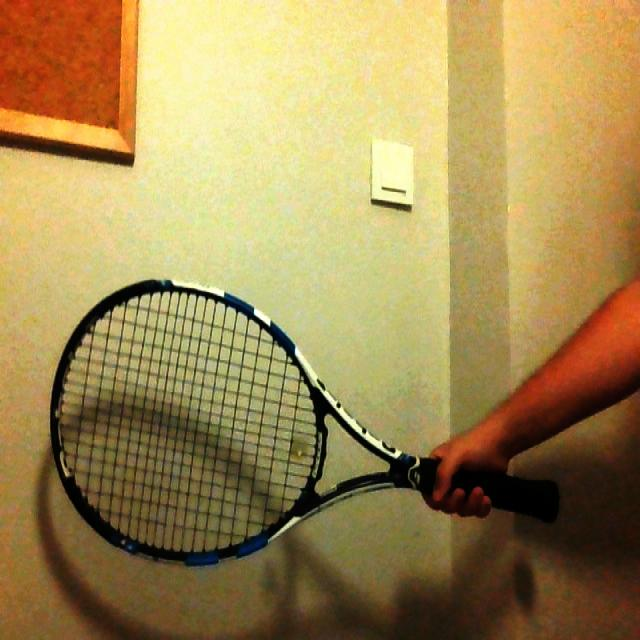TennisRacket: (53, 284, 564, 567)
